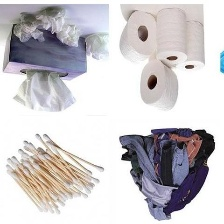tissue: (8, 67, 79, 115), (115, 6, 161, 66), (135, 56, 181, 116), (151, 5, 190, 67), (173, 18, 208, 75), (9, 9, 48, 46), (30, 3, 70, 36), (81, 30, 109, 64), (51, 21, 83, 50)
